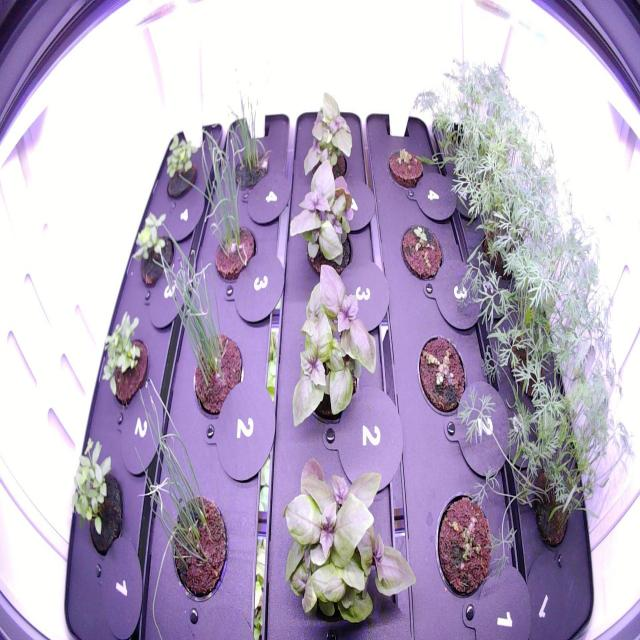germination: (430, 486, 499, 605), (415, 329, 469, 424), (396, 218, 445, 288), (383, 139, 428, 190)
